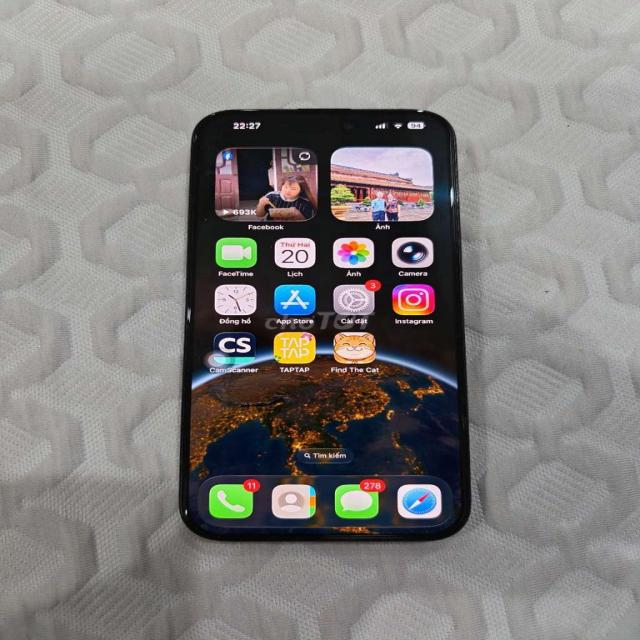gen_15: (147, 91, 481, 545)
scratch: (448, 187, 456, 207), (186, 305, 192, 322), (188, 134, 200, 142), (416, 108, 426, 113), (209, 111, 216, 117), (183, 508, 188, 516)
